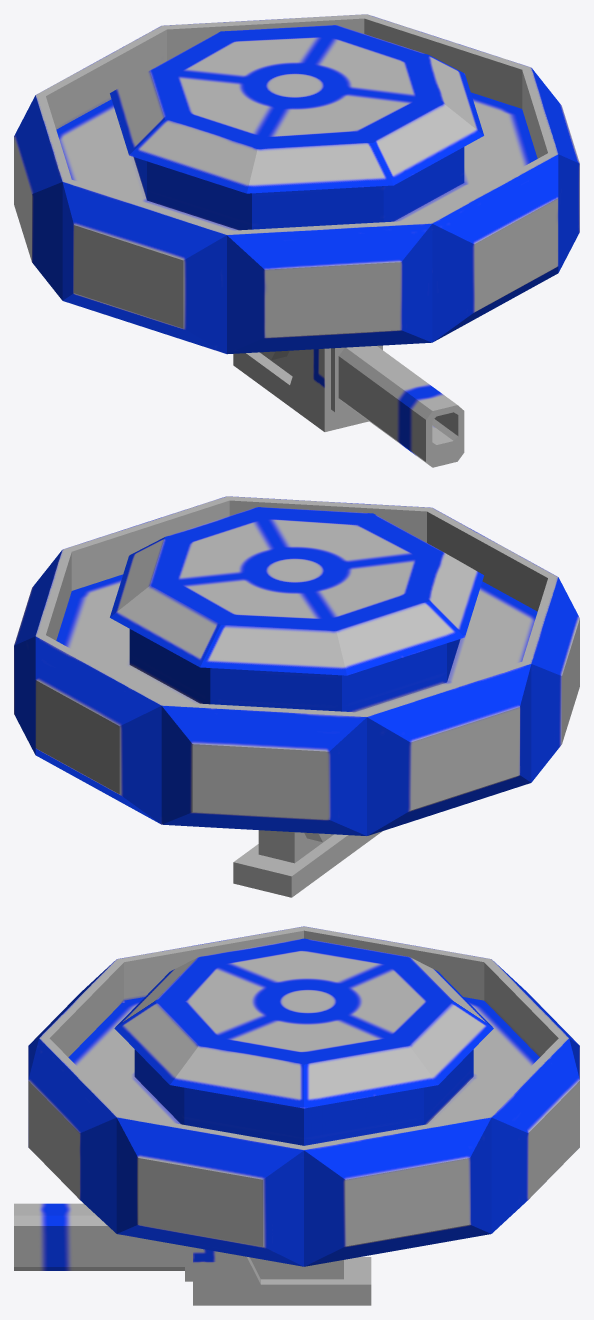
File: UFO_Defense02.fbx
3 views of the same model, one above another, from view 1: azimuth 30°, elevation 25°; view 2: azimuth 150°, elevation 25°; view 3: azimuth 270°, elevation 25° (orthographic). The views are drawn at different scales.
Visible parts, largest first — view 1: P_UFO_Defense, P_Cannon_Defense; view 2: P_UFO_Defense, P_Cannon_Defense; view 3: P_UFO_Defense, P_Cannon_Defense.
Part boxes in pixels (x1,y1,x2,y2): P_UFO_Defense: [14, 14, 579, 360]; P_Cannon_Defense: [233, 345, 464, 467]; P_UFO_Defense: [14, 496, 579, 842]; P_Cannon_Defense: [233, 830, 382, 897]; P_UFO_Defense: [28, 926, 579, 1270]; P_Cannon_Defense: [14, 1203, 371, 1305].
Bounding box in the file's own units: 2.52 × 1.46 × 2.58.
Materials: 1 (1 with a texture image).
